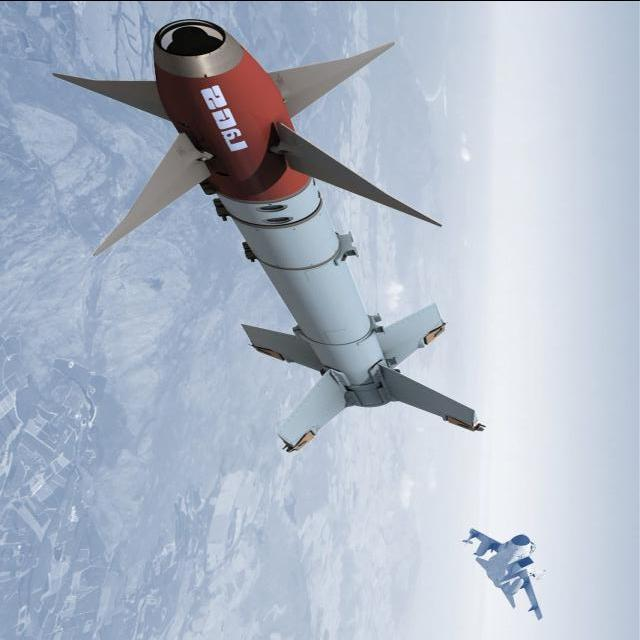missile: (40, 0, 524, 487)
